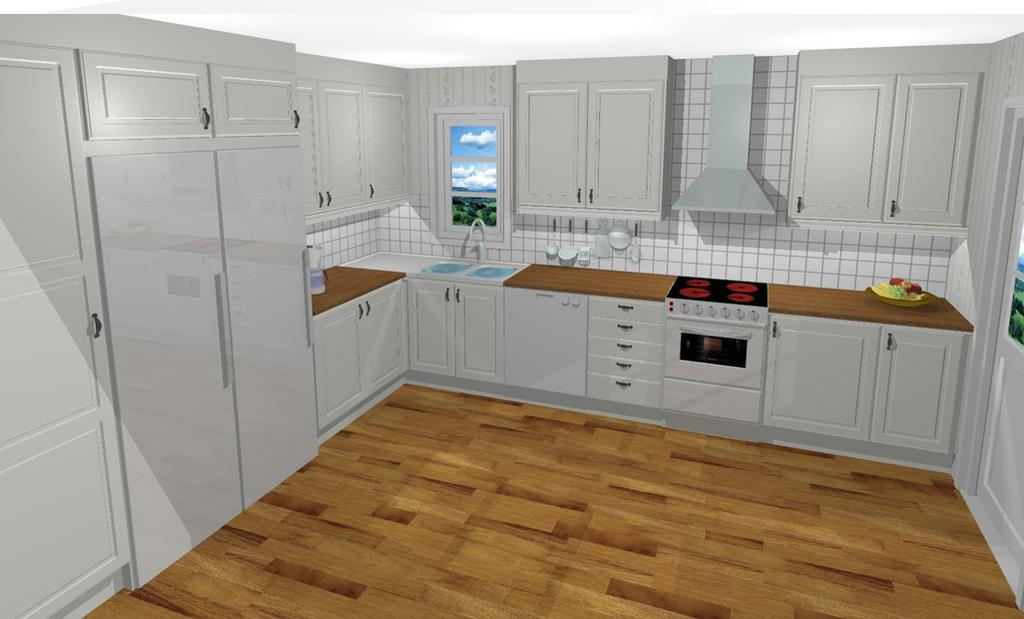cabinet_door: (1, 55, 88, 259), (0, 287, 118, 405), (76, 52, 212, 135), (766, 319, 868, 428), (806, 79, 876, 222), (588, 83, 660, 208), (897, 82, 956, 221), (882, 329, 952, 442), (522, 84, 584, 208), (210, 66, 300, 126), (322, 90, 364, 201), (360, 96, 406, 197), (364, 294, 414, 381), (322, 304, 364, 402), (456, 286, 498, 376), (420, 287, 457, 368), (596, 296, 658, 324), (294, 88, 320, 152), (599, 337, 655, 363), (604, 379, 658, 403), (598, 319, 654, 342), (598, 360, 652, 376)
handle: (200, 268, 238, 381), (296, 244, 316, 350), (84, 310, 107, 337), (196, 104, 214, 129), (614, 300, 638, 316), (440, 283, 454, 307), (614, 358, 636, 373), (614, 377, 636, 392), (358, 294, 372, 316), (792, 193, 806, 214), (287, 107, 301, 128), (887, 195, 899, 219), (616, 340, 637, 353), (452, 289, 466, 308), (311, 191, 324, 209), (364, 185, 377, 202), (616, 322, 634, 334), (322, 190, 334, 207), (574, 184, 584, 204), (886, 330, 894, 354), (586, 187, 596, 204), (354, 302, 364, 319), (770, 318, 776, 340)
